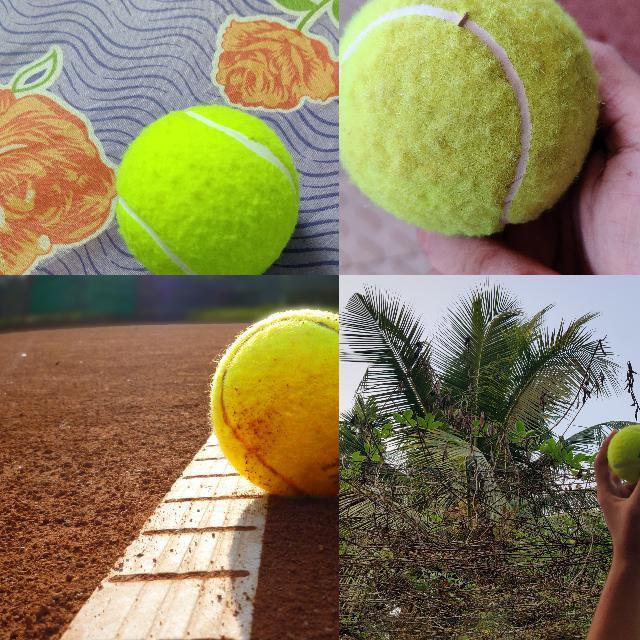tennis-ball: (339, 0, 601, 237), (113, 103, 301, 274), (209, 309, 338, 502), (605, 423, 639, 483)
